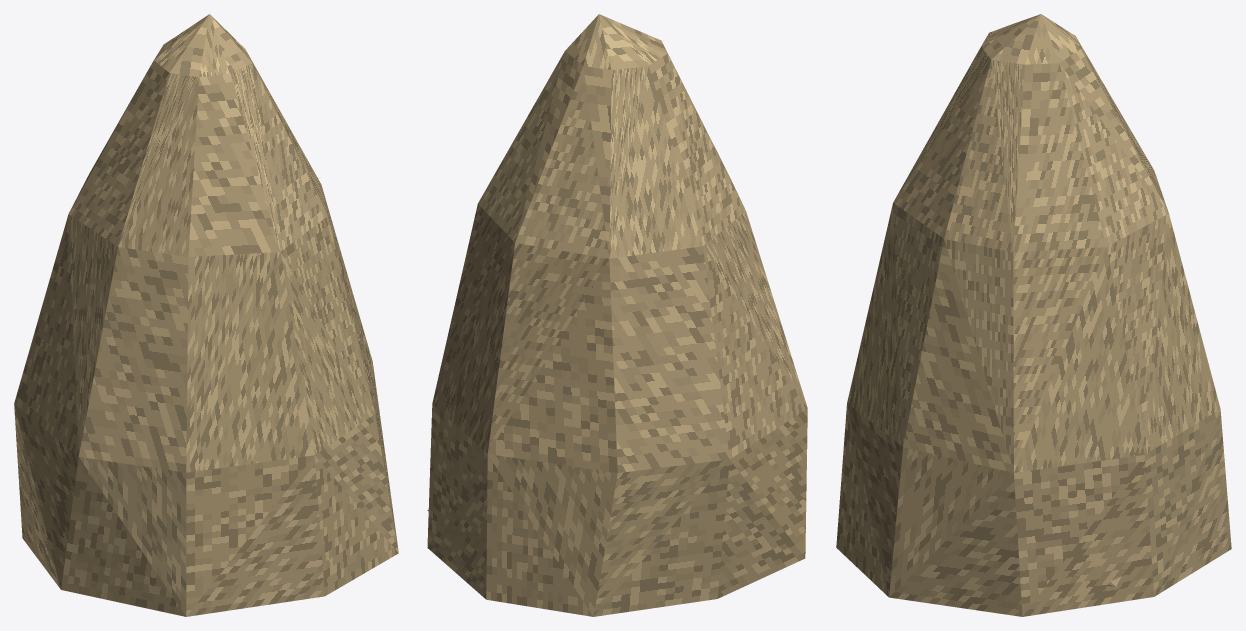
File: f_sand_mound_mid.glb
3 renders of one model, left to right at view 1: azimuth 30°, elevation 25°; view 2: azimuth 150°, elevation 25°; view 3: azimuth 270°, elevation 25°, orthographic. The views are drawn at different scales.
Parts seen in each view (by area): view 1: block_heaped-sand; view 2: block_heaped-sand; view 3: block_heaped-sand.
Part boxes in pixels (<box>): block_heaped-sand: <box>14,14,398,616</box>; block_heaped-sand: <box>427,14,807,616</box>; block_heaped-sand: <box>836,14,1231,616</box>.
Size of the model in its own units: 0.881 by 1.31 by 0.8924.
Materials: 1 (1 with a texture image).
